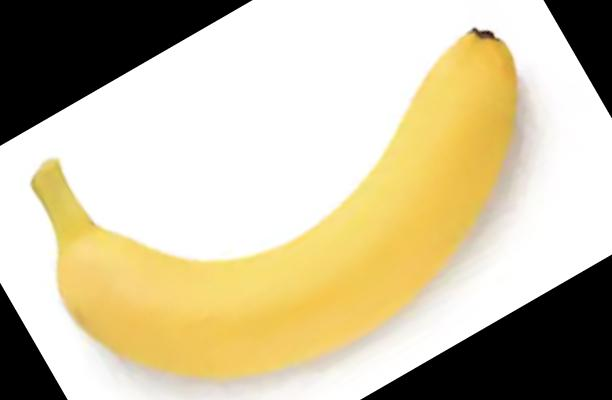Banana Ripe: (4, 3, 598, 400)
